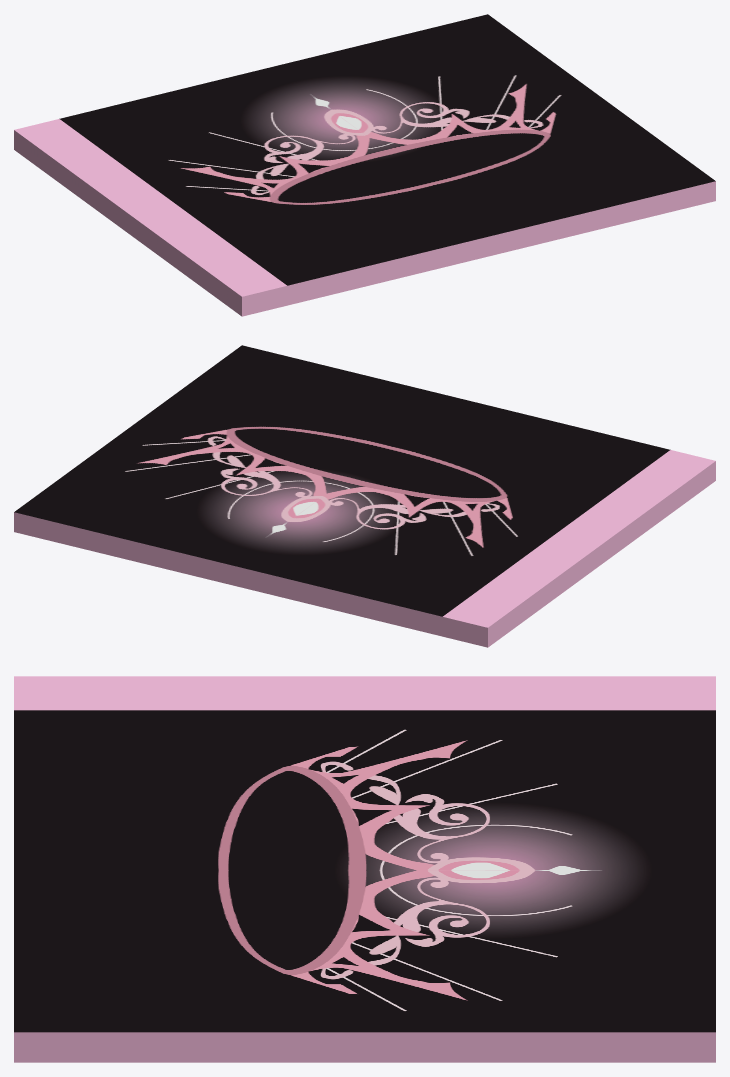
The model's file is KPop-Record.fbx.
The picture shows the model from 3 angles, top to bottom: view 1: azimuth 30°, elevation 25°; view 2: azimuth 150°, elevation 25°; view 3: azimuth 270°, elevation 25°; orthographic projection. The views are drawn at different scales.
Visible parts, largest first — view 1: KPopRecord; view 2: KPopRecord; view 3: KPopRecord.
Part boxes in pixels (<box>): KPopRecord: <box>14,14,715,316</box>; KPopRecord: <box>14,345,715,647</box>; KPopRecord: <box>14,676,715,1062</box>.
Bounding box in the file's own units: 540 × 21.62 × 450.
